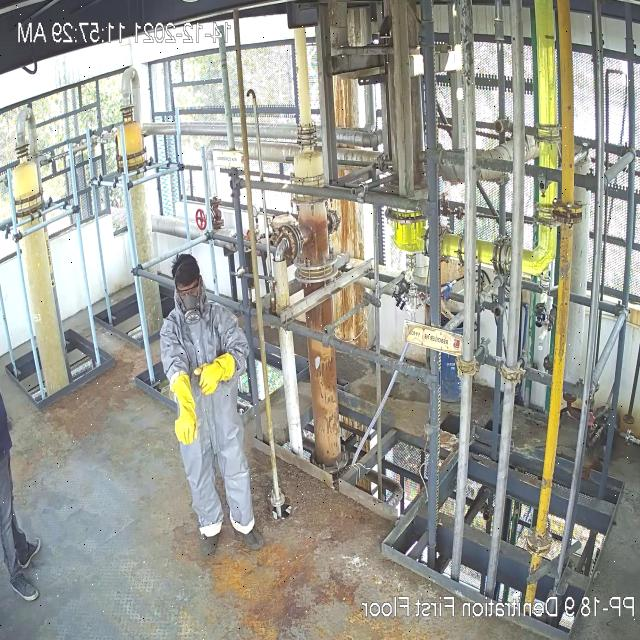Gloves: (171, 373, 198, 444), (194, 352, 235, 395)
Mask: (176, 287, 202, 325)
No Hardhat: (171, 253, 199, 287)
Overall Suit: (160, 285, 253, 527)
Safety Boots: (234, 527, 264, 551), (199, 533, 219, 557)
